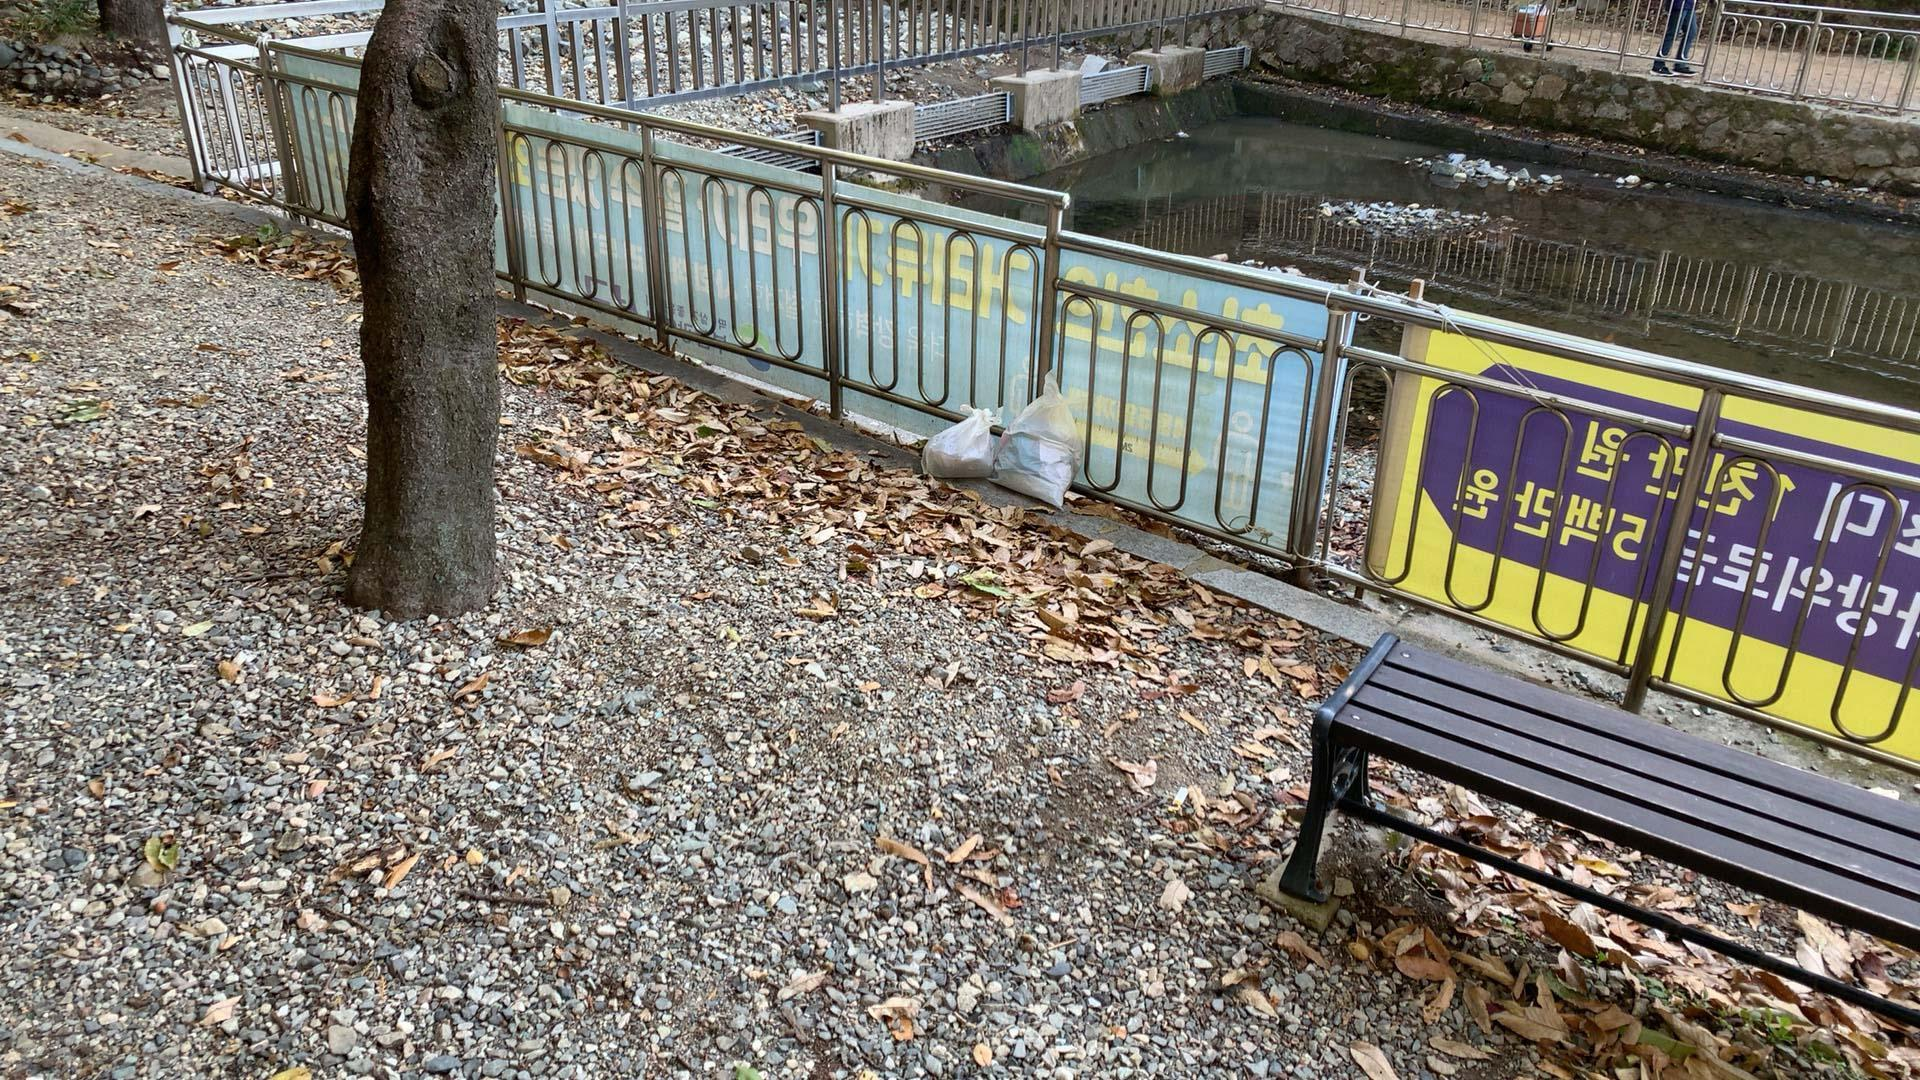white_bag: (990, 363, 1085, 514), (918, 400, 1000, 481)
